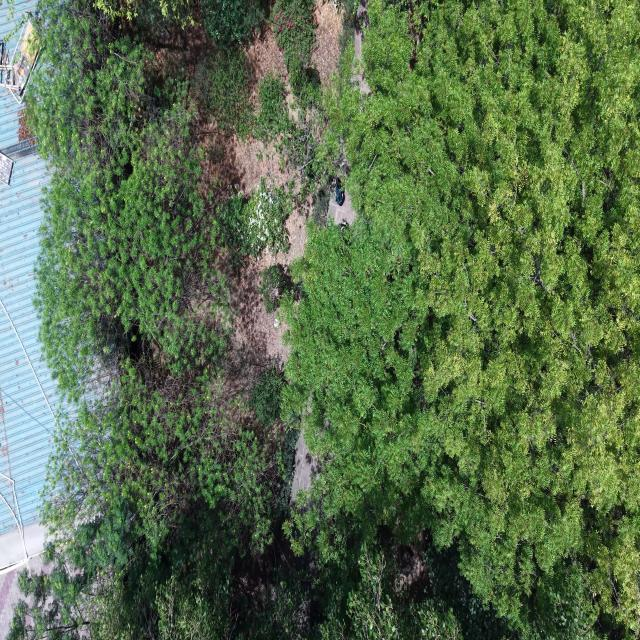DRY_AREA: (220, 202, 310, 396), (221, 201, 310, 396), (221, 202, 310, 396), (219, 211, 305, 397), (221, 207, 306, 394), (221, 210, 305, 396), (228, 201, 310, 391), (226, 211, 306, 394), (219, 253, 287, 395), (225, 261, 288, 397), (201, 132, 288, 201), (203, 136, 293, 192), (204, 134, 287, 192), (196, 114, 247, 202), (150, 23, 215, 77), (229, 136, 287, 193), (201, 125, 243, 202), (246, 24, 287, 101), (247, 24, 288, 99), (258, 208, 307, 269), (312, 0, 342, 85), (312, 0, 342, 84), (247, 24, 287, 85), (394, 531, 430, 592), (291, 431, 319, 503), (352, 0, 370, 94), (0, 567, 24, 637), (0, 570, 21, 637), (353, 0, 368, 82), (329, 192, 356, 225), (18, 110, 35, 146)
ROOFTOP_BUILDING: (0, 89, 58, 573)
VEGETATION_TREE: (9, 0, 639, 639), (284, 0, 639, 637), (9, 3, 291, 639), (27, 7, 224, 399), (9, 359, 281, 639), (44, 355, 277, 558), (317, 531, 517, 639), (347, 545, 462, 639), (253, 70, 328, 200), (91, 0, 266, 50), (277, 83, 332, 201), (217, 178, 291, 259), (191, 48, 254, 138), (271, 0, 320, 106), (234, 178, 291, 257), (272, 0, 316, 85), (200, 0, 265, 50), (91, 0, 195, 29), (254, 73, 291, 141), (217, 188, 246, 261), (250, 368, 284, 426), (259, 264, 292, 313), (312, 185, 330, 225)
